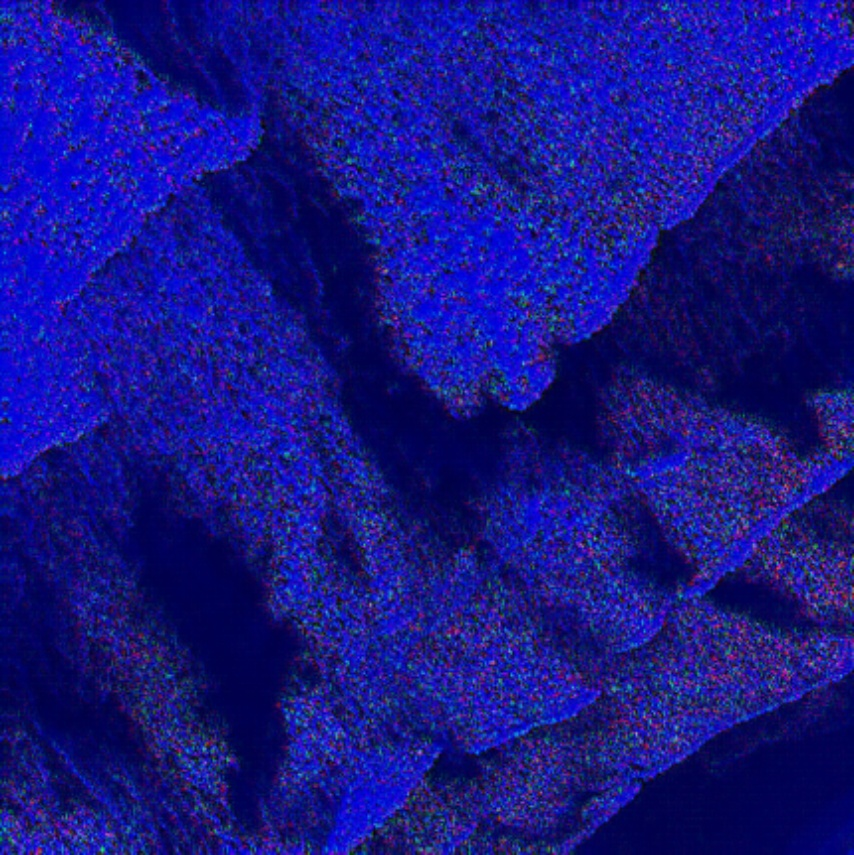rip_current: (193, 141, 610, 634)
